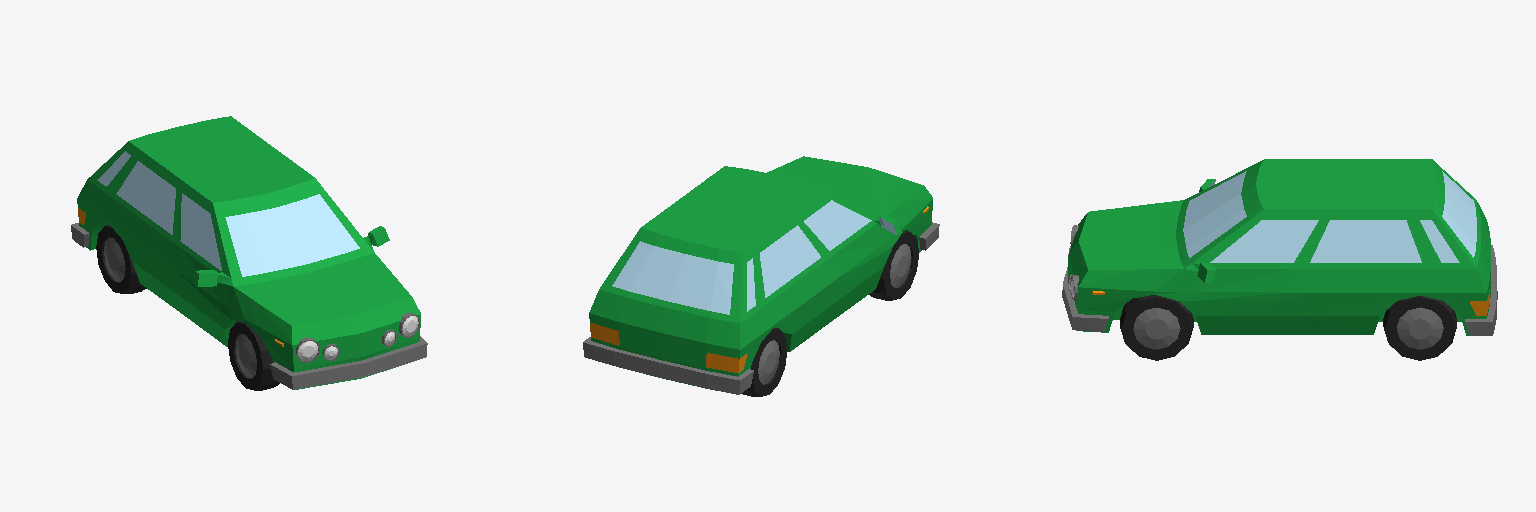
3 renders of one model, left to right at view 1: azimuth 30°, elevation 25°; view 2: azimuth 150°, elevation 25°; view 3: azimuth 270°, elevation 25°, orthographic.
Parts seen in each view (by area): view 1: Car; view 2: Car; view 3: Car.
Boxes of the visible parts, <box> form: Car: <box>71,116,427,390</box>; Car: <box>583,156,939,396</box>; Car: <box>1062,159,1497,360</box>.
Size of the model in its own units: 45.5 by 32.33 by 89.11.
1 materials, 1 textured.